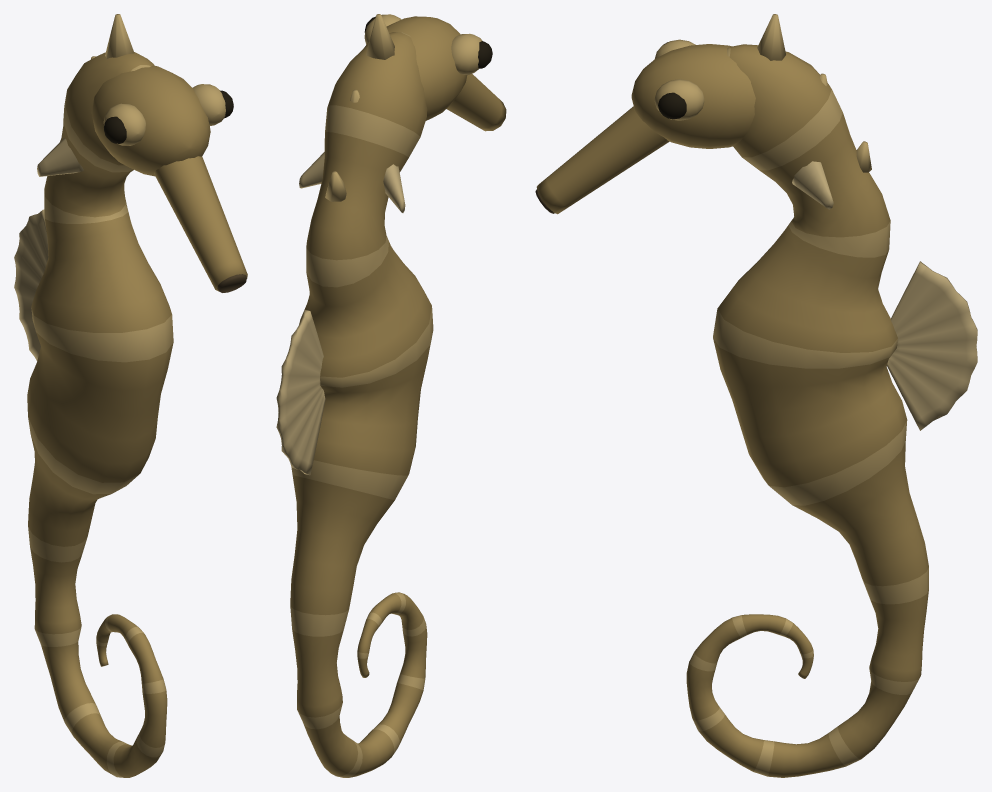
3 views of the same model, side by side, from view 1: azimuth 30°, elevation 25°; view 2: azimuth 150°, elevation 25°; view 3: azimuth 270°, elevation 25° (orthographic).
Visible parts, largest first — view 1: Continuous_plated_trunk_and_coiled_tail, Horse_like_cheek_head, Tubular_downward_snout, Dorsal_fin_fan, Left_pectoral_fin, Left_bulging_eye_socket, Right_bulging_eye_socket, Coronet_crest_0, Left_glossy_eye; view 2: Continuous_plated_trunk_and_coiled_tail, Dorsal_fin_fan, Horse_like_cheek_head, Tubular_downward_snout, Left_bulging_eye_socket, Coronet_crest_0, Left_pectoral_fin, Right_pectoral_fin, Coronet_crest_2; view 3: Continuous_plated_trunk_and_coiled_tail, Dorsal_fin_fan, Horse_like_cheek_head, Tubular_downward_snout, Right_pectoral_fin, Right_bulging_eye_socket, Coronet_crest_0.
Boxes of the visible parts, x1,y1,x2,y2 form: Continuous_plated_trunk_and_coiled_tail: (27, 52, 173, 777); Horse_like_cheek_head: (91, 65, 210, 176); Tubular_downward_snout: (154, 156, 247, 291); Dorsal_fin_fan: (14, 209, 48, 360); Left_pectoral_fin: (37, 138, 83, 176); Left_bulging_eye_socket: (103, 103, 145, 145); Right_bulging_eye_socket: (192, 84, 225, 125); Coronet_crest_0: (105, 14, 134, 58); Left_glossy_eye: (104, 116, 126, 143); Continuous_plated_trunk_and_coiled_tail: (290, 32, 433, 777); Dorsal_fin_fan: (276, 310, 325, 475); Horse_like_cheek_head: (364, 16, 467, 120); Tubular_downward_snout: (447, 74, 506, 131); Left_bulging_eye_socket: (451, 33, 482, 74); Coronet_crest_0: (366, 14, 394, 59); Left_pectoral_fin: (383, 164, 405, 212); Right_pectoral_fin: (299, 152, 324, 188); Coronet_crest_2: (325, 171, 346, 201); Continuous_plated_trunk_and_coiled_tail: (686, 44, 928, 777); Dorsal_fin_fan: (887, 261, 977, 430); Horse_like_cheek_head: (631, 44, 755, 148); Tubular_downward_snout: (536, 106, 669, 214); Right_pectoral_fin: (792, 161, 833, 209); Right_bulging_eye_socket: (654, 79, 704, 120); Coronet_crest_0: (757, 14, 785, 60).
Size of the model in its own units: 0.0242 by 0.1404 by 0.0739.
